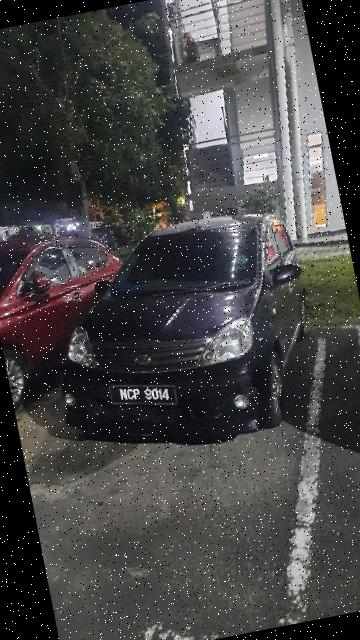License_Plate: (109, 372, 183, 422)
car: (29, 199, 333, 468)
